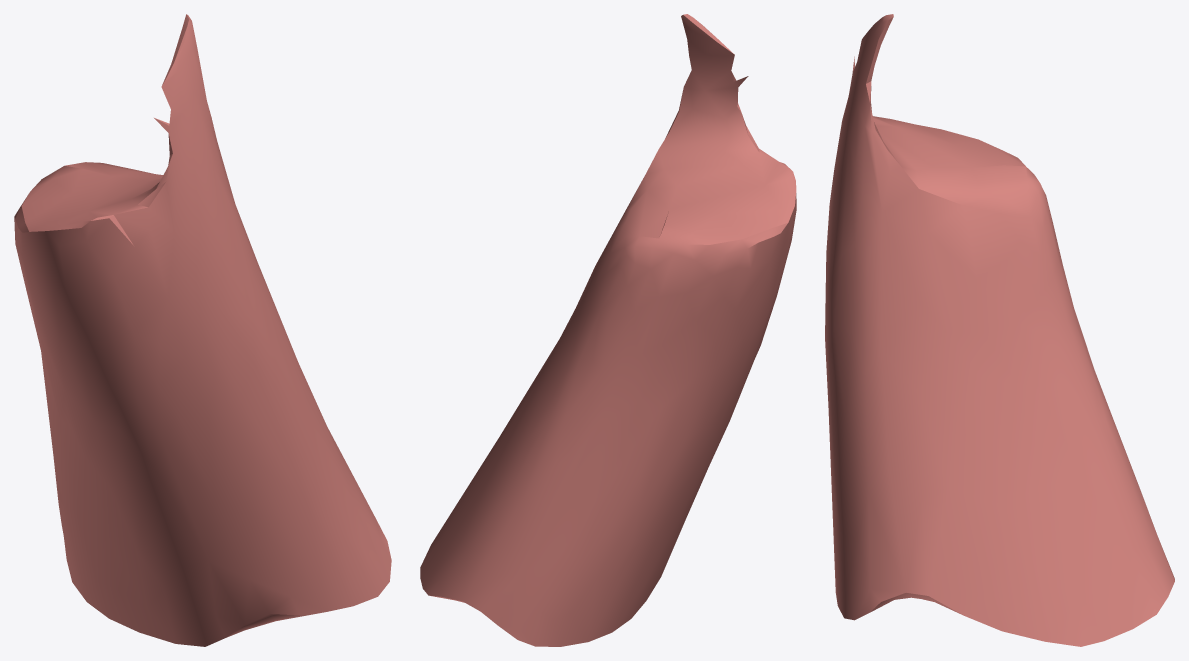
The model's file is fma63227_mm1774m.glb.
The picture shows the model from 3 angles, left to right: view 1: azimuth 30°, elevation 25°; view 2: azimuth 150°, elevation 25°; view 3: azimuth 270°, elevation 25°; orthographic projection. The views are drawn at different scales.
Parts seen in each view (by area): view 1: FMA63227_MM1774M; view 2: FMA63227_MM1774M; view 3: FMA63227_MM1774M.
Boxes of the visible parts, x1,y1,x2,y2 form: FMA63227_MM1774M: [14, 14, 391, 646]; FMA63227_MM1774M: [420, 14, 796, 646]; FMA63227_MM1774M: [825, 14, 1174, 646].
Size of the model in its own units: 0.0133 by 0.0236 by 0.0129.
